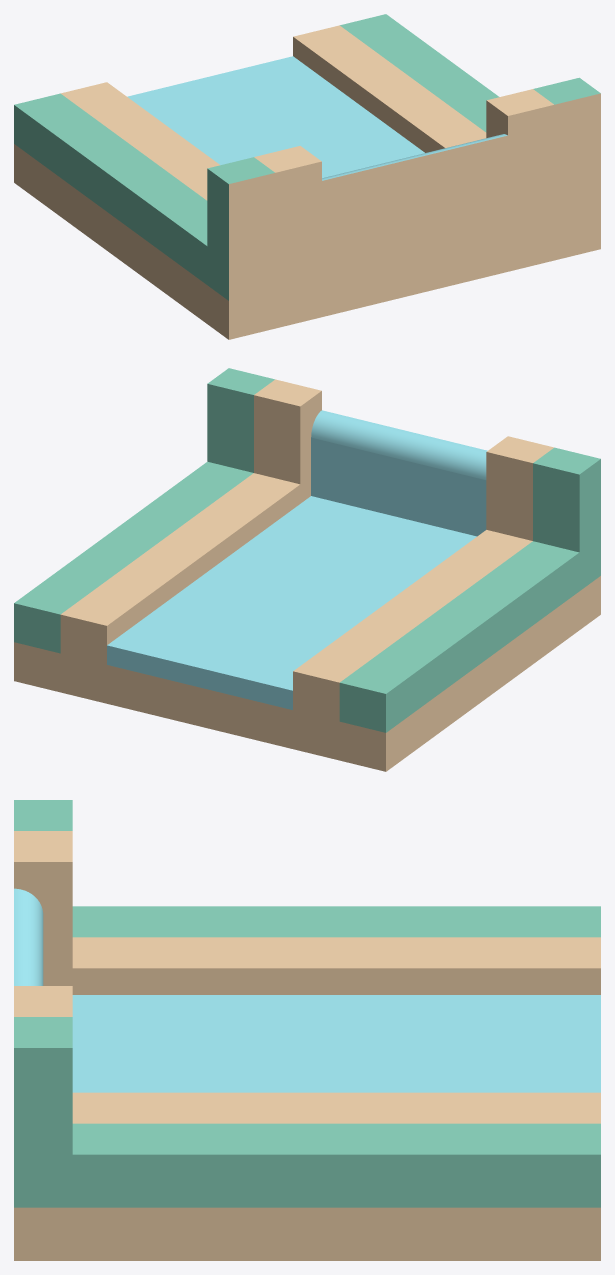
Rendered from tile_riverFall.glb.
3 renders of one model, top to bottom at view 1: azimuth 30°, elevation 25°; view 2: azimuth 150°, elevation 25°; view 3: azimuth 270°, elevation 25°, orthographic. The views are drawn at different scales.
Visible parts, largest first — view 1: tile_riverFall; view 2: tile_riverFall; view 3: tile_riverFall.
Boxes of the visible parts, x1=… form: tile_riverFall: x1=14, y1=14, x2=600, y2=339; tile_riverFall: x1=14, y1=368, x2=600, y2=771; tile_riverFall: x1=14, y1=800, x2=600, y2=1260.
Size of the model in its own units: 1 by 0.4 by 1.
